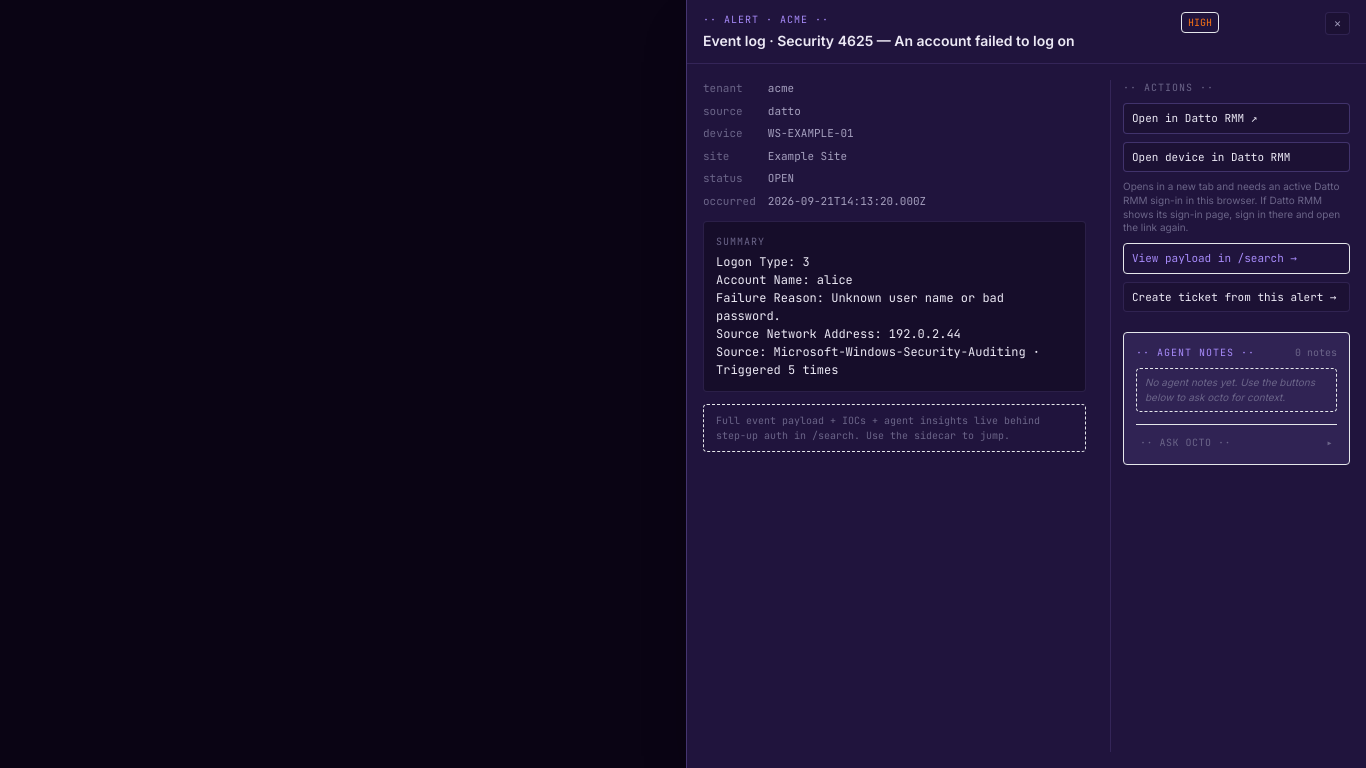
Test: alert drawer › resolves the device page on click, opens it safely, and becomes a real link
This screenshot has width=1366, height=768.
Step 1. Click the button with test id "alert-drawer-vendor-device" → (1236, 157), box left=1123, top=142, right=1350, bottom=172
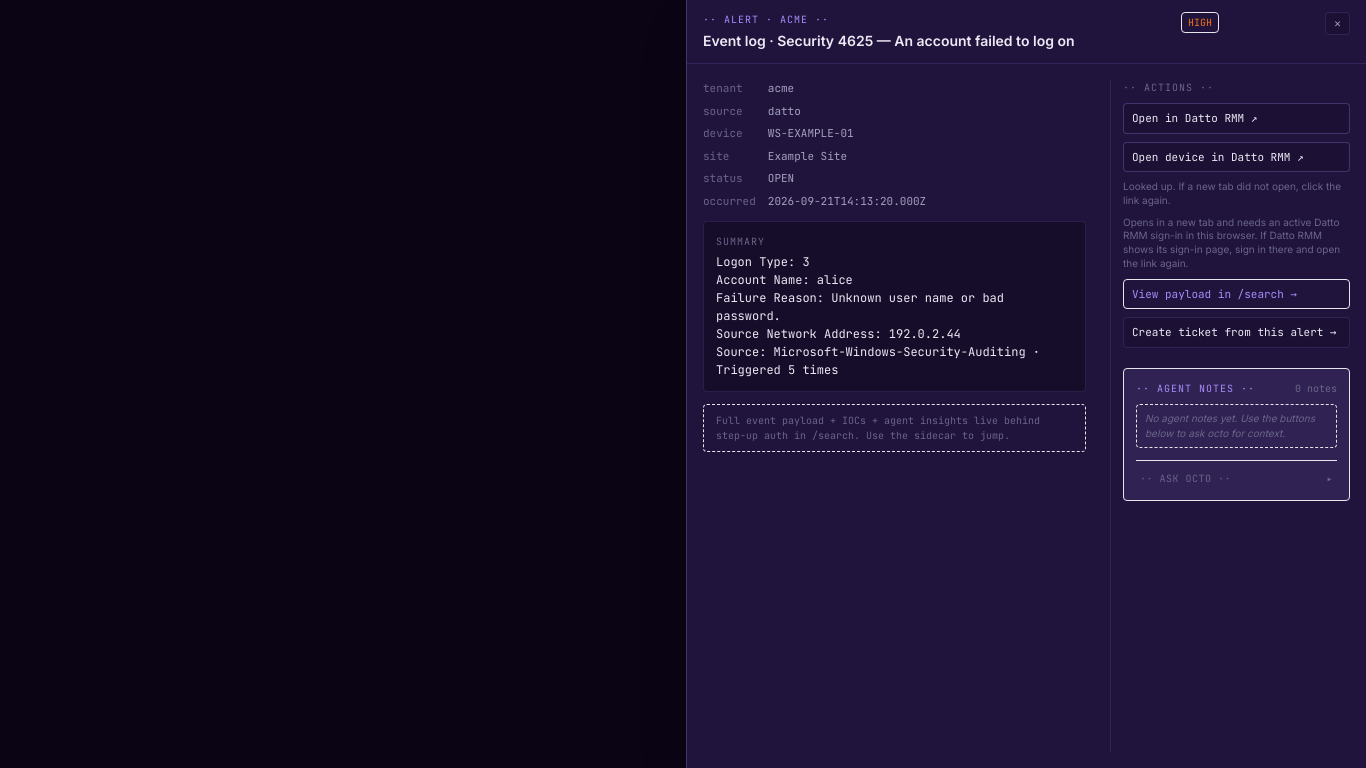
Result: the message with test id "alert-drawer-vendor-device-status" reads "Looked up. If a new tab did not open, click the link again." at left=1123, top=180, right=1341, bottom=206
